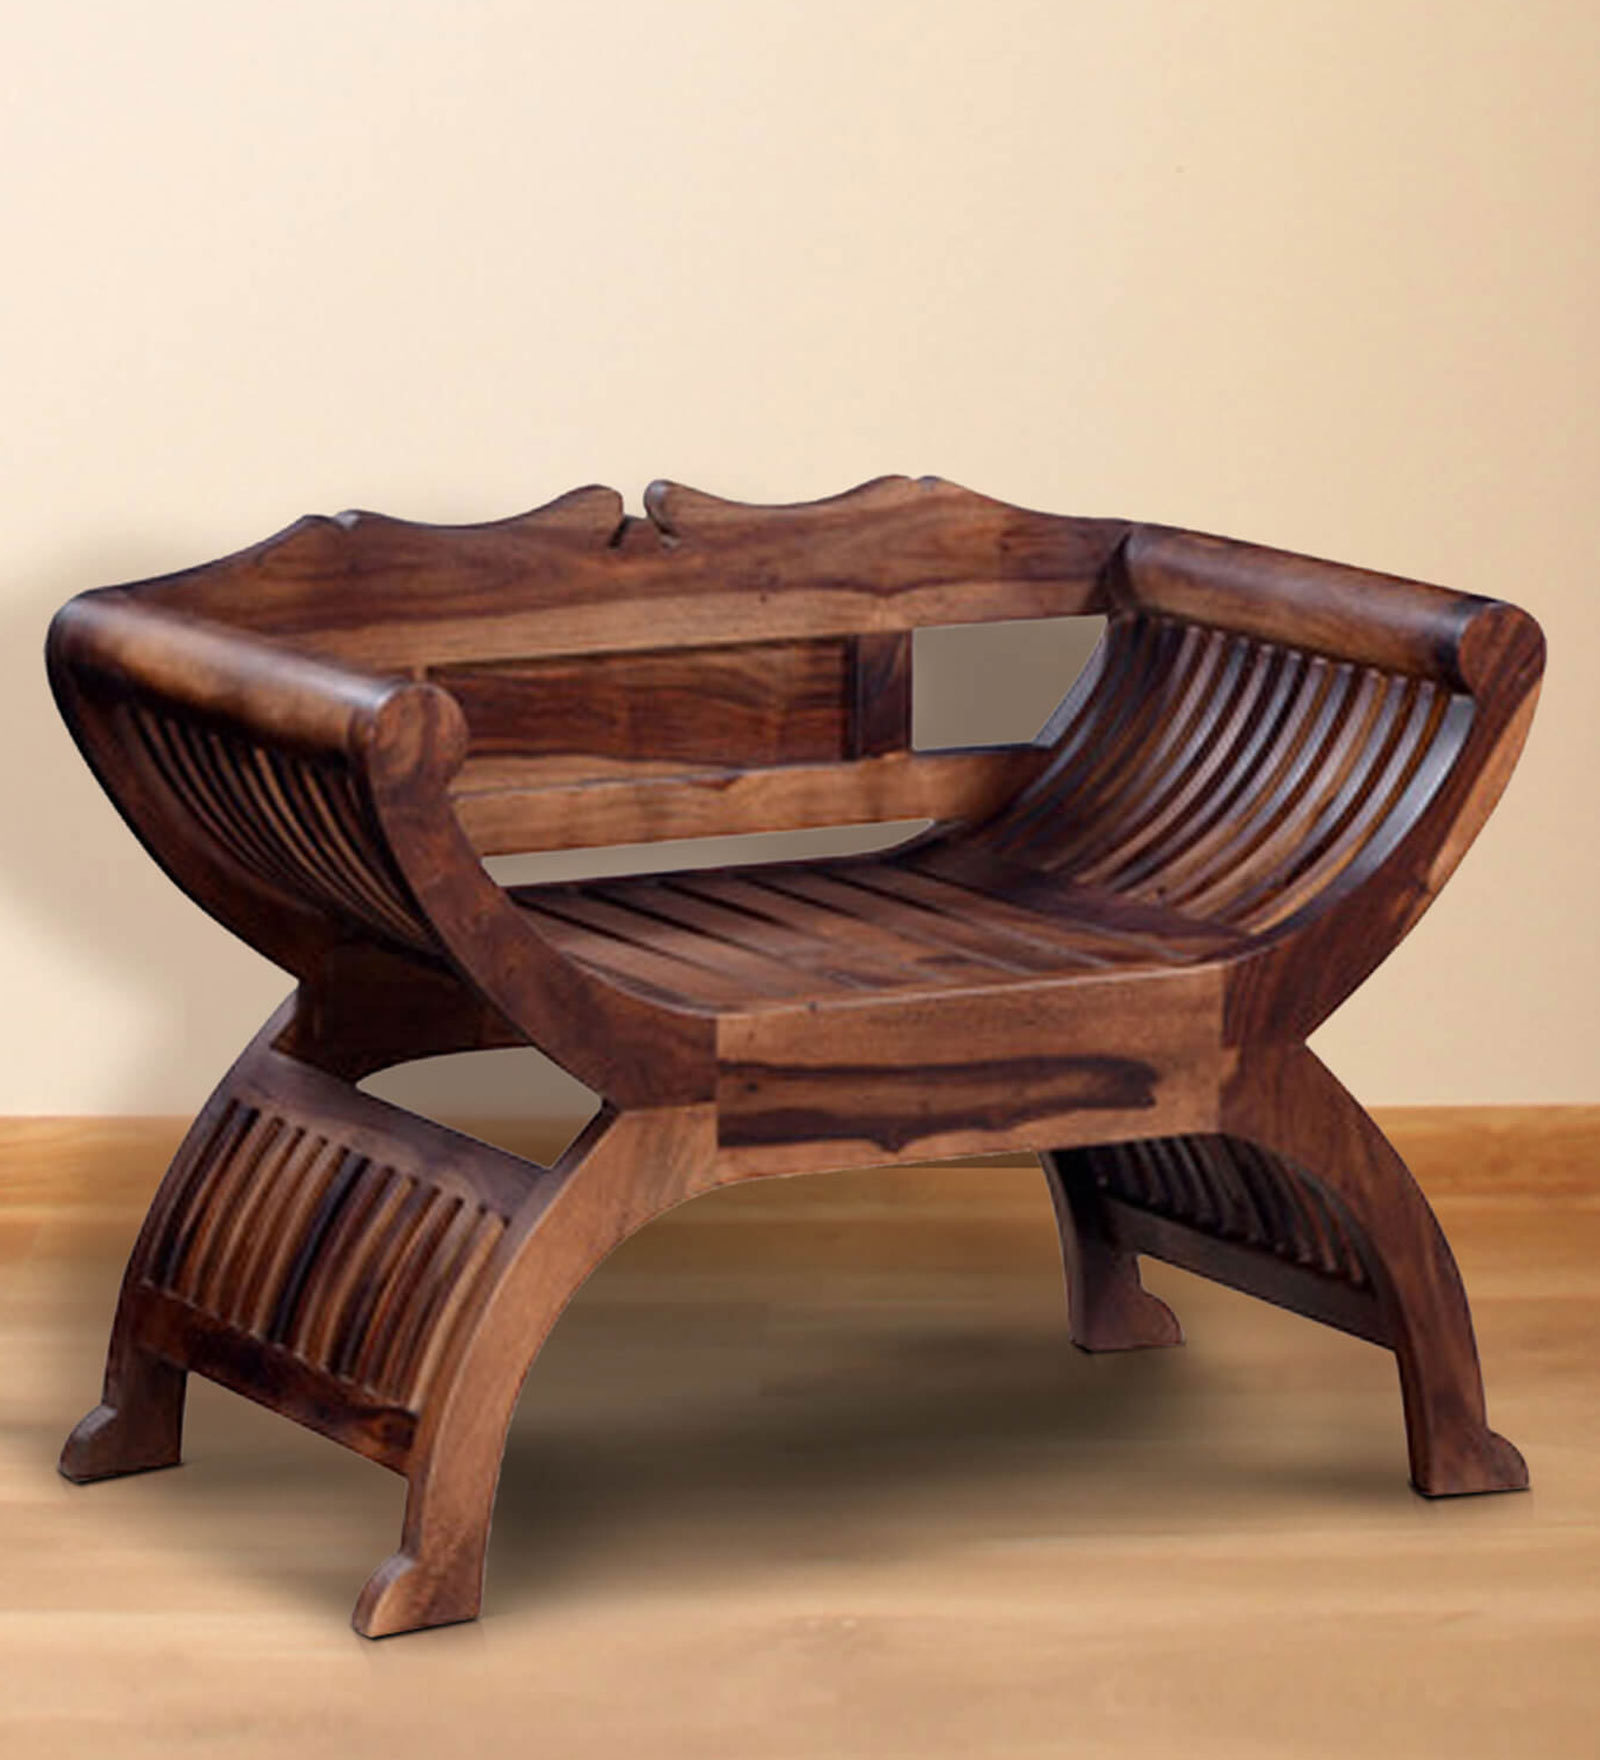William Arm Chair in Provincial Teak Finish by Amberville: (52, 373, 1556, 1625)
